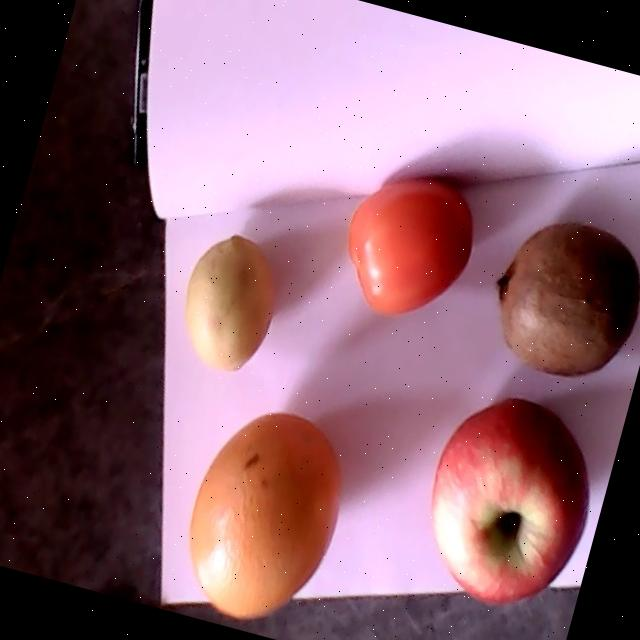apple: (430, 395, 588, 604)
kiwi: (493, 222, 640, 376)
lemon: (184, 233, 272, 370)
orange: (188, 411, 340, 617)
tomato: (347, 177, 473, 315)
